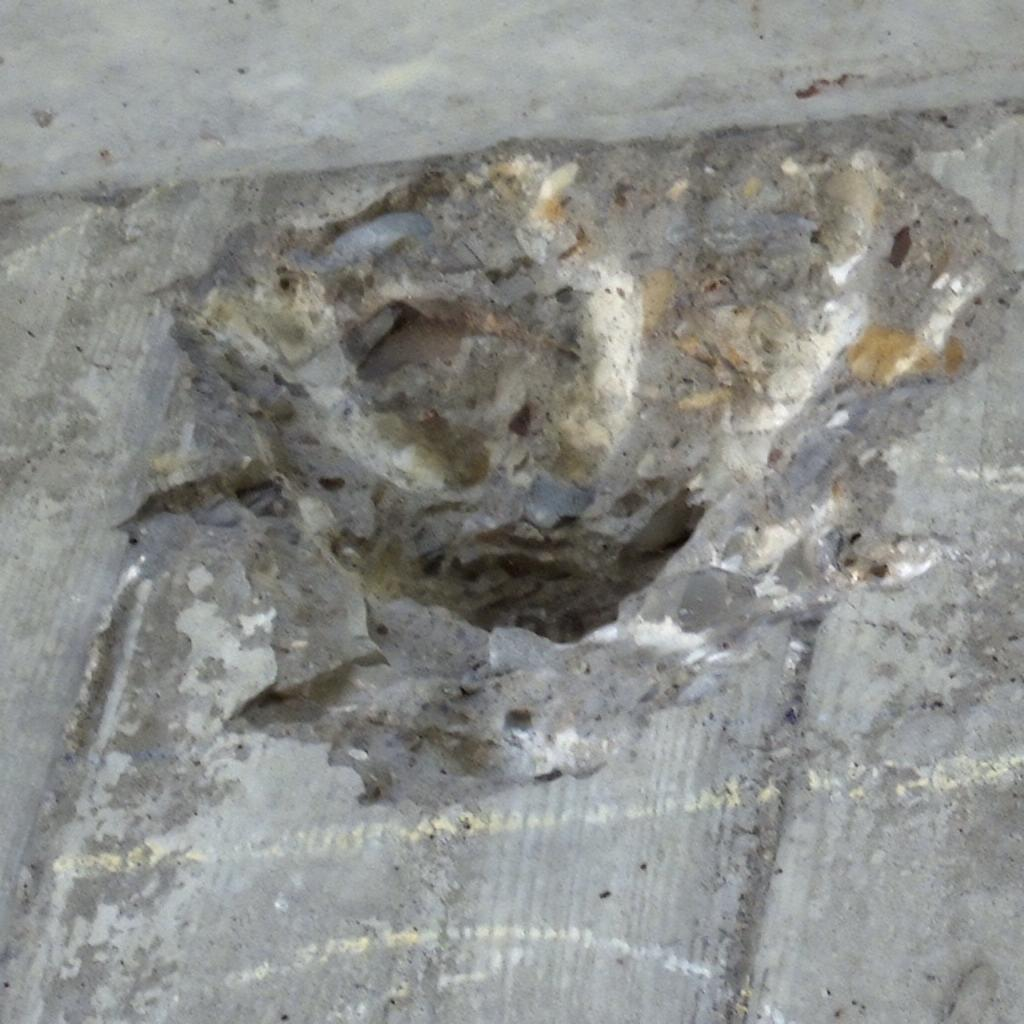spalling: (84, 124, 1018, 799)
